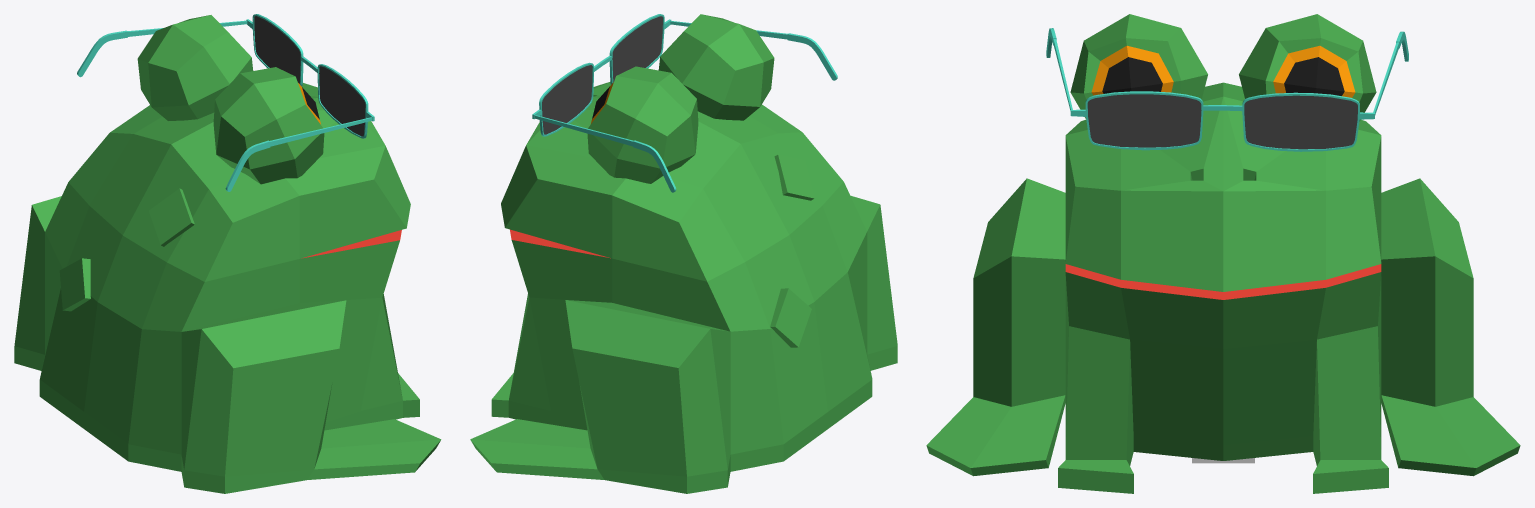
The model's file is frog-smartglasses.glb.
3 renders of one model, left to right at view 1: azimuth 30°, elevation 25°; view 2: azimuth 150°, elevation 25°; view 3: azimuth 270°, elevation 25°, orthographic. The views are drawn at different scales.
Visible parts, largest first — view 1: Frog_01_Cube.029, glasses29.001; view 2: Frog_01_Cube.029, glasses29.001; view 3: Frog_01_Cube.029, glasses29.001.
Boxes of the visible parts, box(x1,y1,x2,y2) form: Frog_01_Cube.029: box(14, 15, 441, 493); glasses29.001: box(77, 14, 374, 191); Frog_01_Cube.029: box(470, 14, 897, 493); glasses29.001: box(532, 14, 837, 192); Frog_01_Cube.029: box(926, 14, 1520, 493); glasses29.001: box(1046, 28, 1408, 151).
Bounding box in the file's own units: 12.88 × 14.87 × 18.81.
